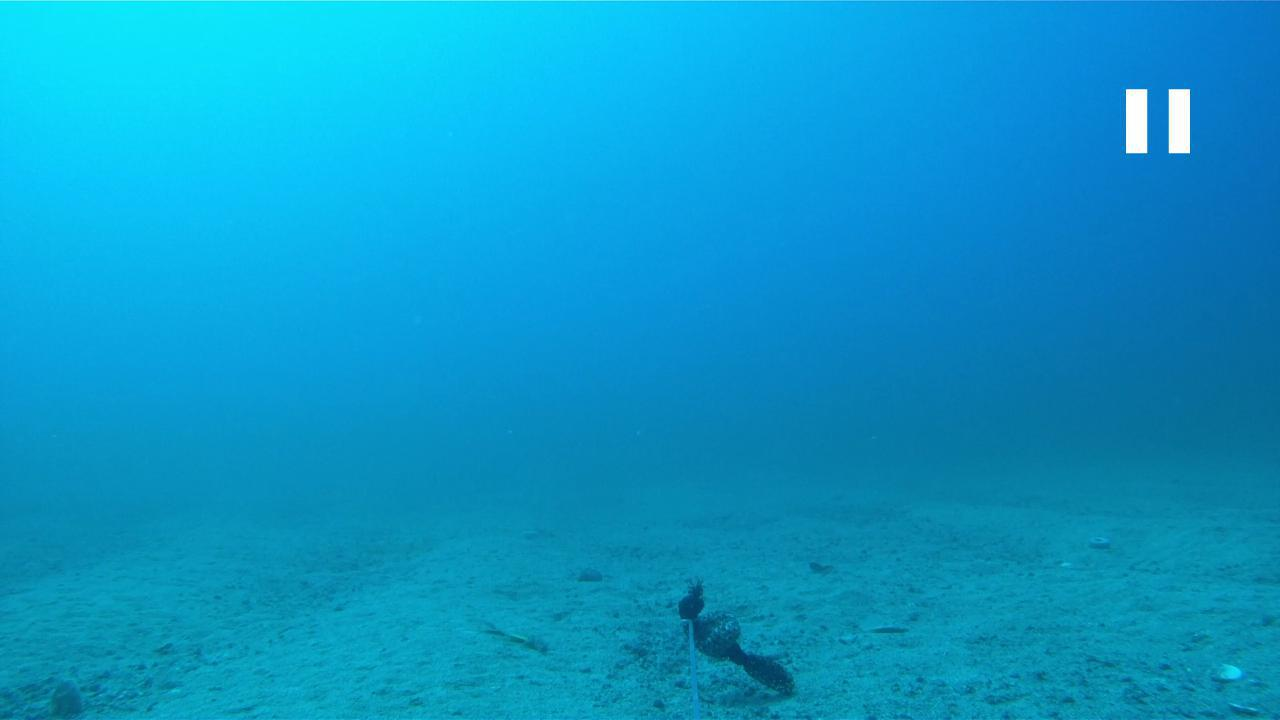bothus: (857, 609, 910, 639)
